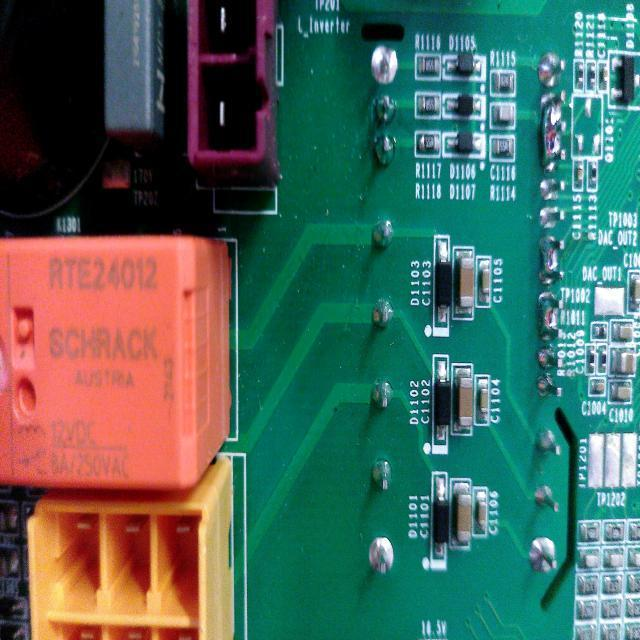Soldering shorted: (540, 89, 568, 175), (534, 232, 571, 290), (536, 290, 565, 346)
